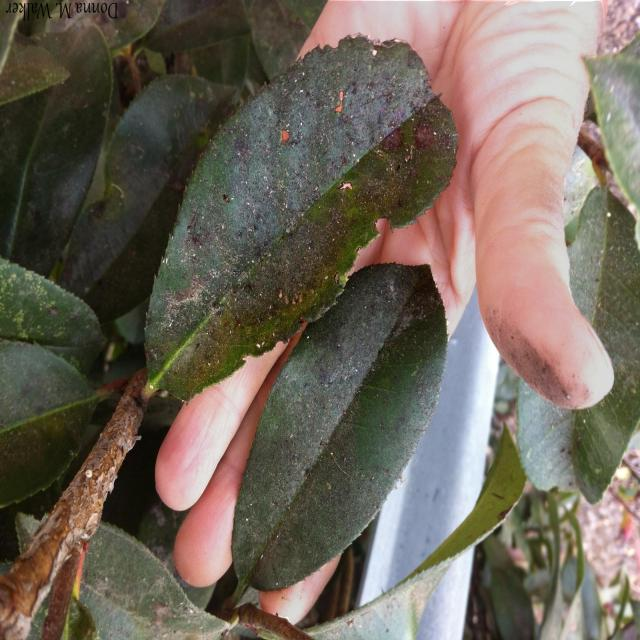Sooty Mold: (2, 30, 460, 636), (142, 31, 459, 404), (228, 260, 450, 596)
